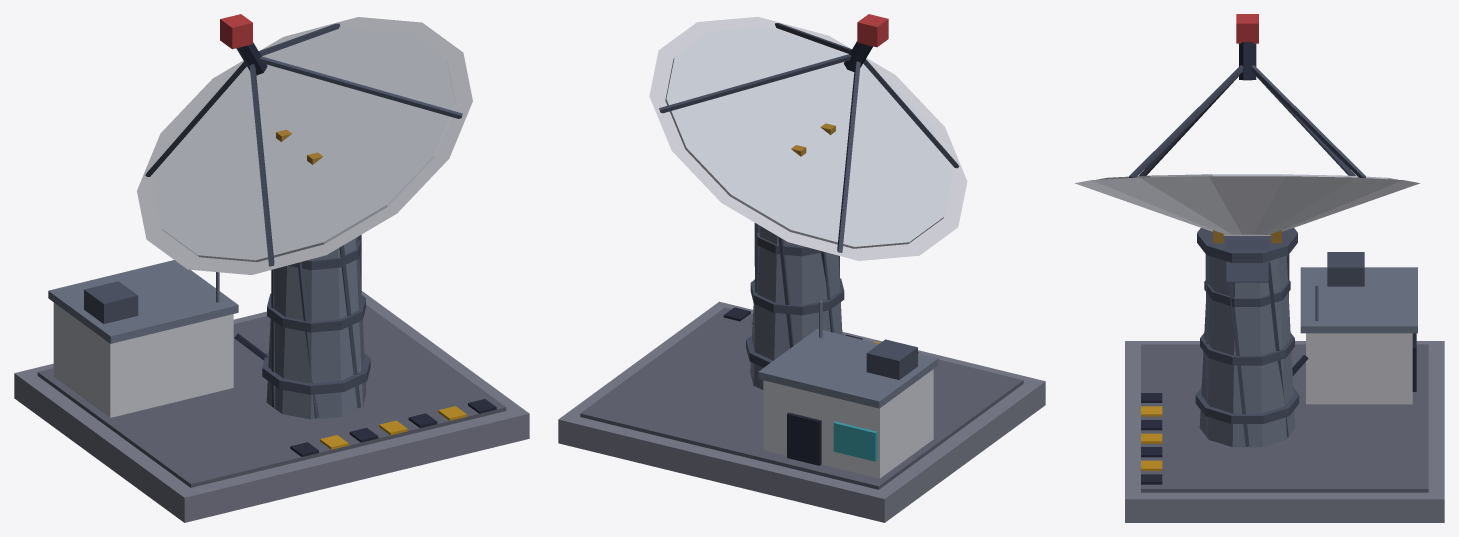
File: Decor_Observatory_Dish.fbx
3 views of the same model, side by side, from view 1: azimuth 30°, elevation 25°; view 2: azimuth 150°, elevation 25°; view 3: azimuth 270°, elevation 25° (orthographic). The views are drawn at different scales.
Parts seen in each view (by area): view 1: Dish_Body; view 2: Dish_Body; view 3: Dish_Body.
Part boxes in pixels (x1=…): Dish_Body: x1=14, y1=14, x2=529, y2=522; Dish_Body: x1=558, y1=14, x2=1045, y2=522; Dish_Body: x1=1075, y1=14, x2=1444, y2=522.
Size of the model in its own units: 14.04 by 16.55 by 13.9.
